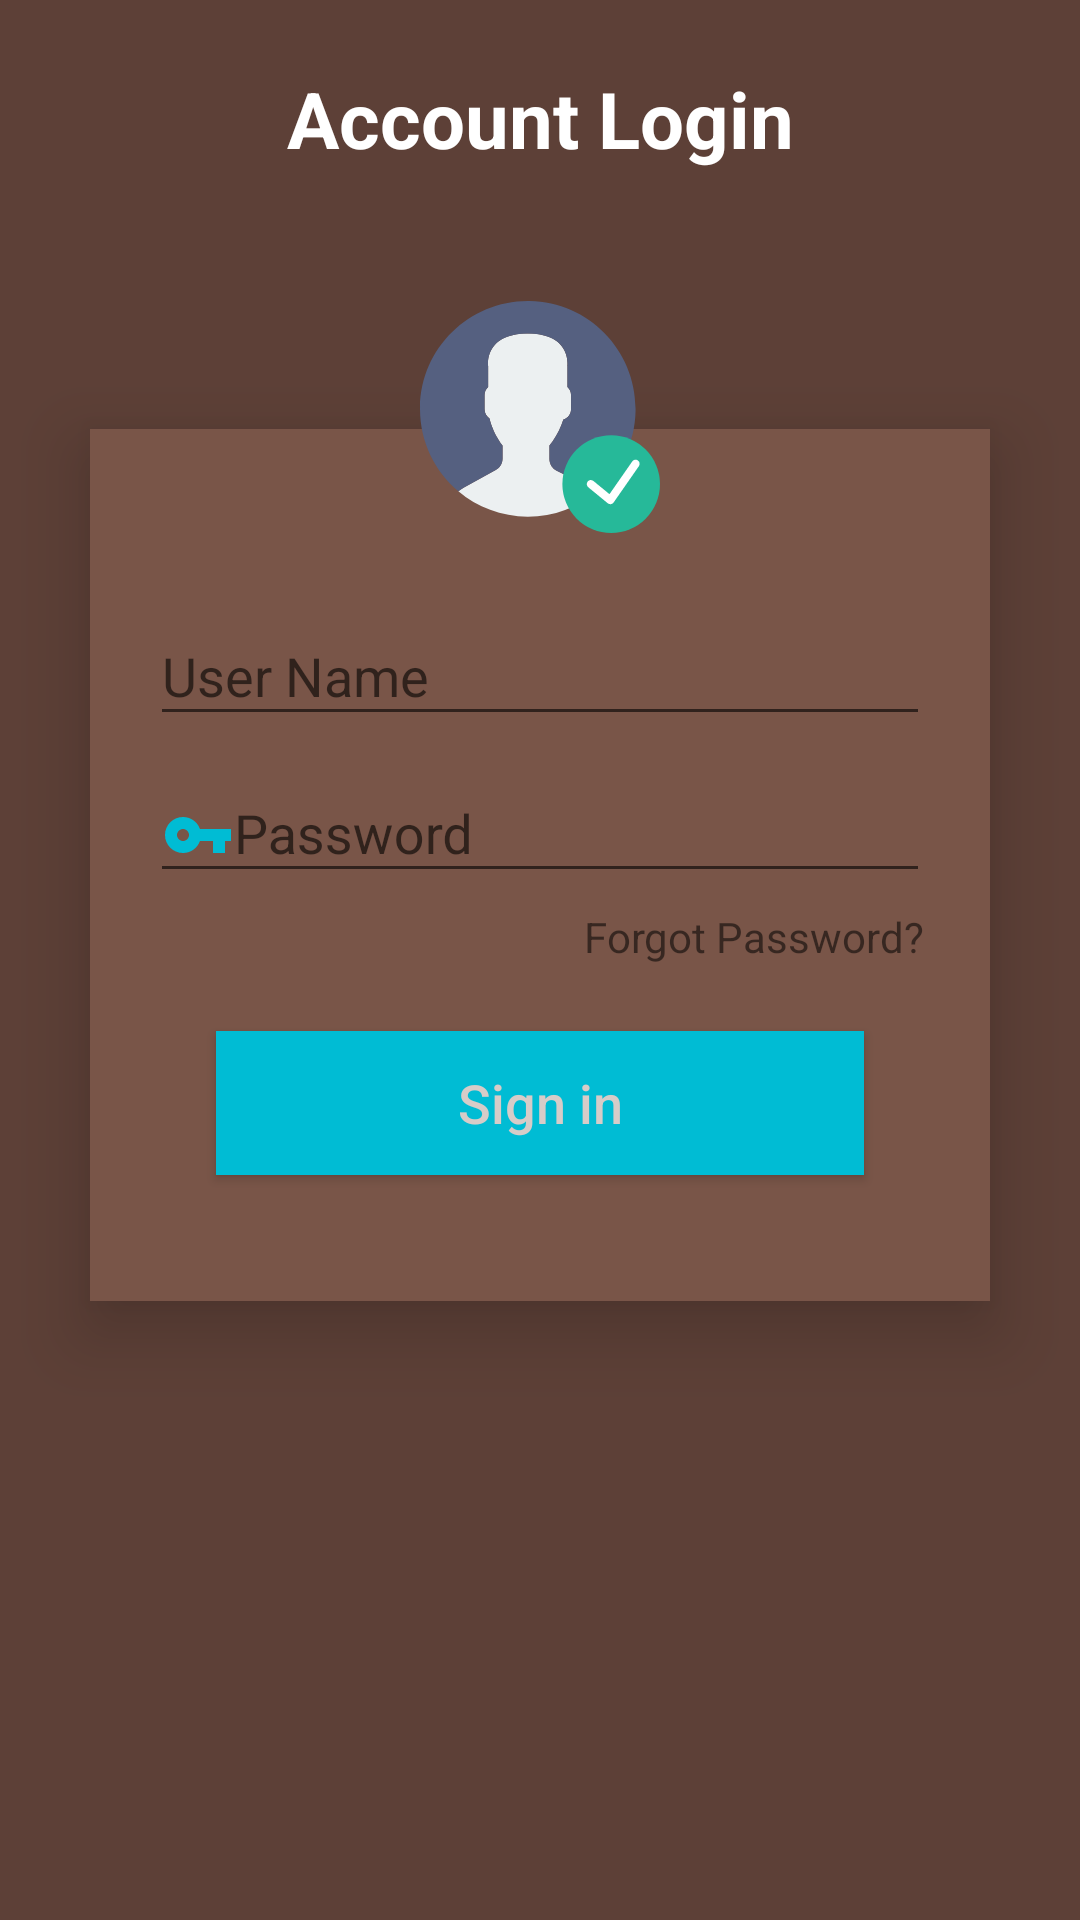

Where to tap for icons on this 1080x1920 app screen, as (x=x, y=y):
user: (x=540, y=417)
